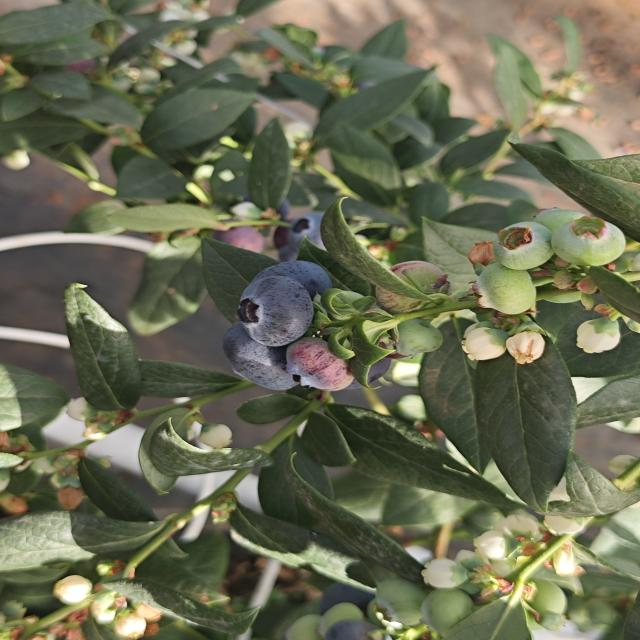ripe: (213, 320, 323, 394), (234, 274, 313, 346), (245, 262, 342, 312), (279, 208, 349, 259)
